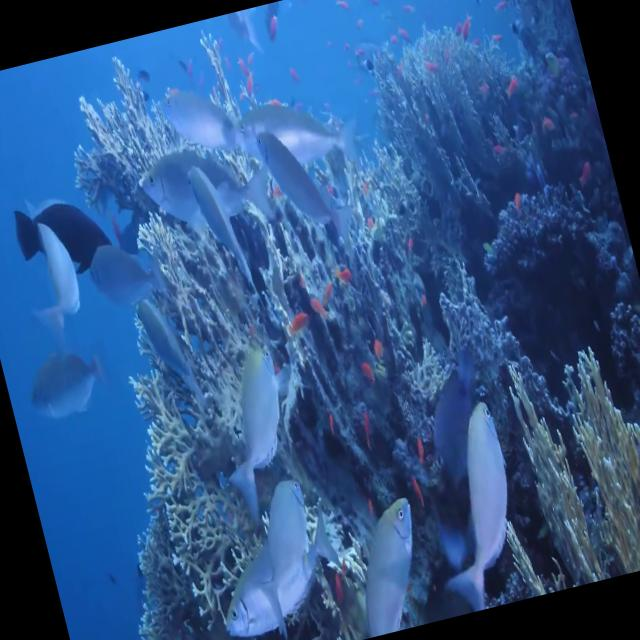fish: (401, 387, 550, 617), (188, 330, 312, 534), (213, 466, 339, 640), (192, 508, 347, 640), (332, 478, 446, 638), (73, 198, 170, 322)
